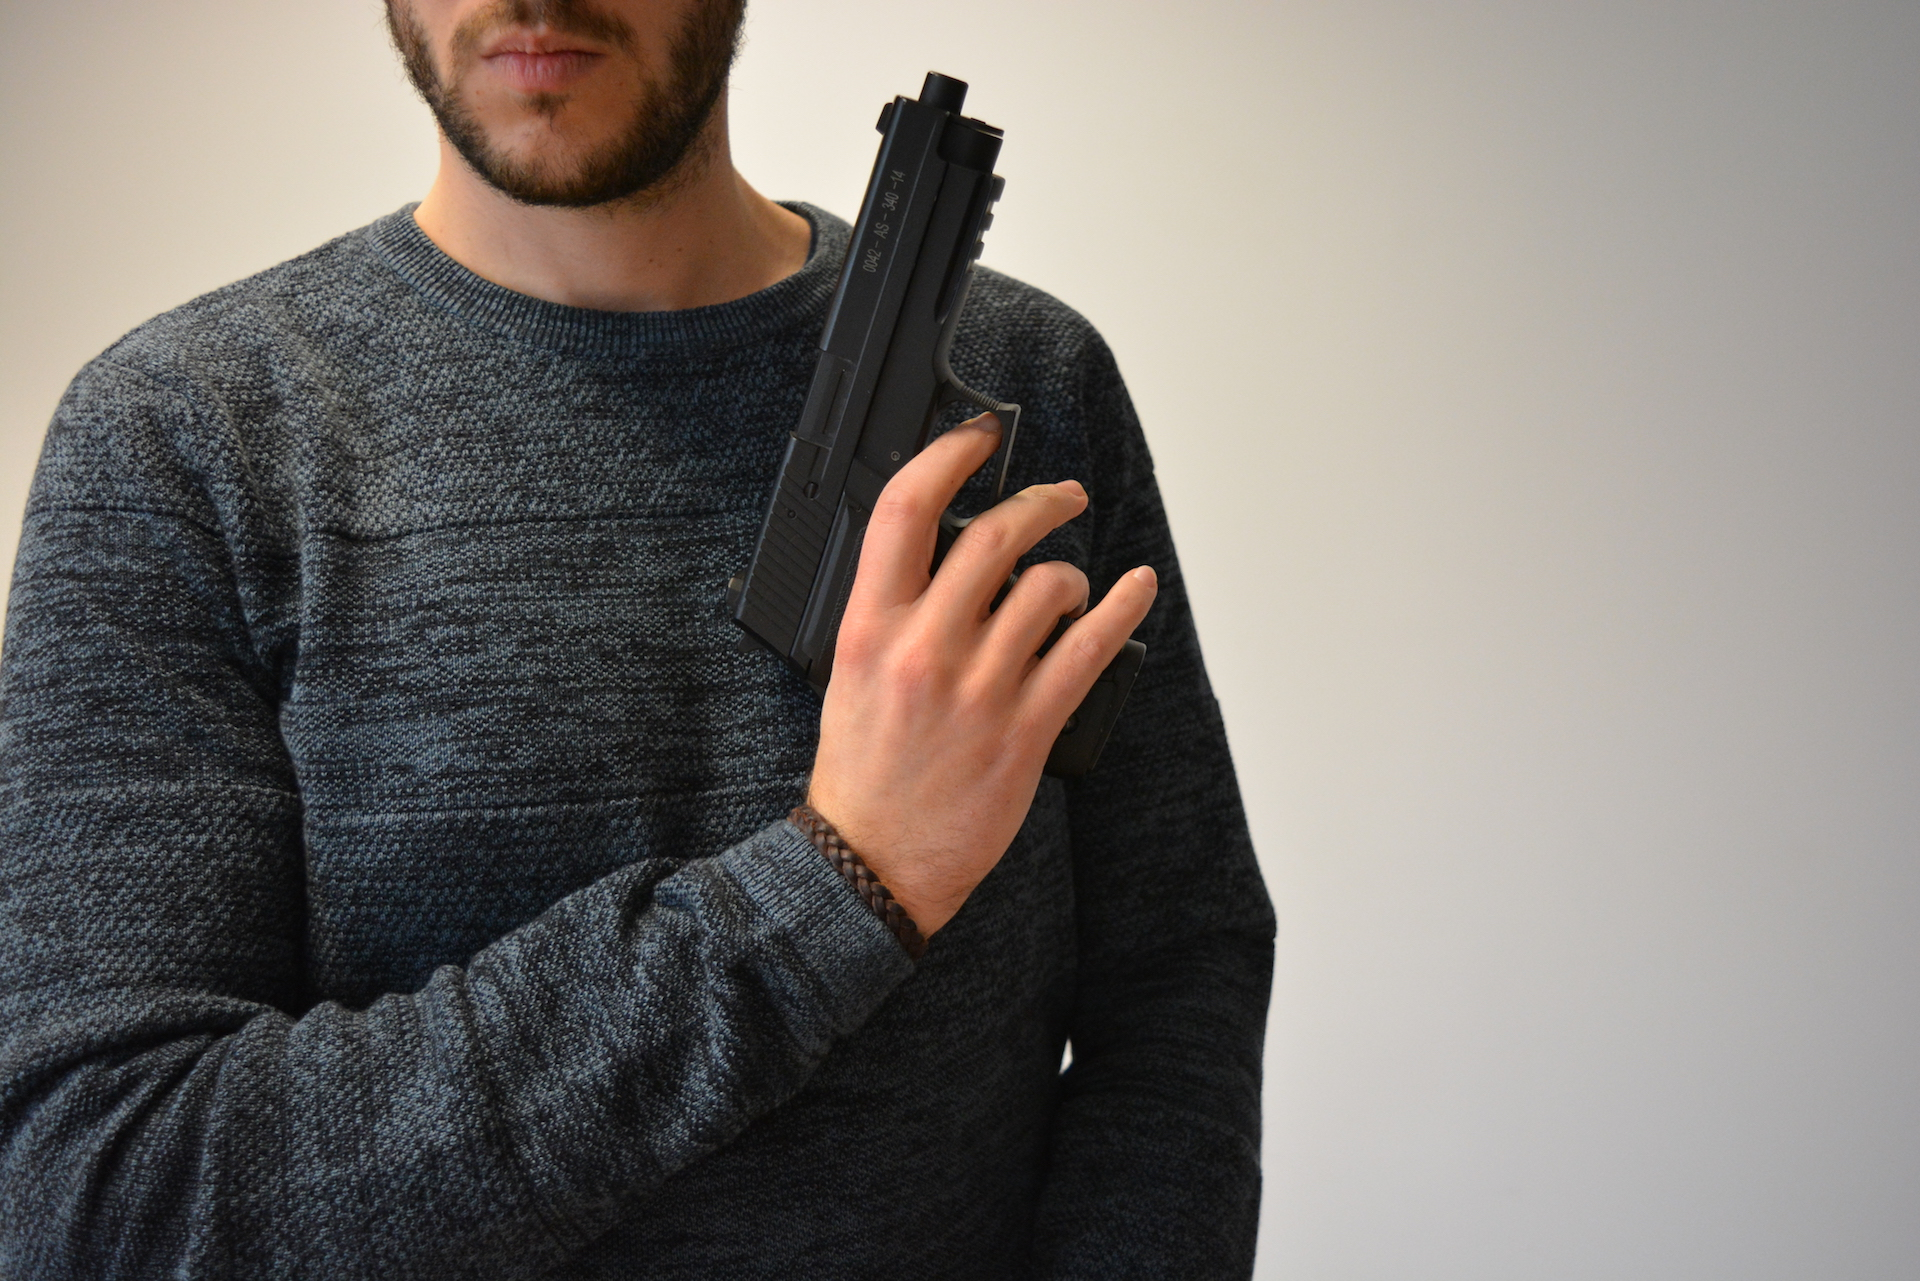pistol: (719, 66, 1157, 792)
